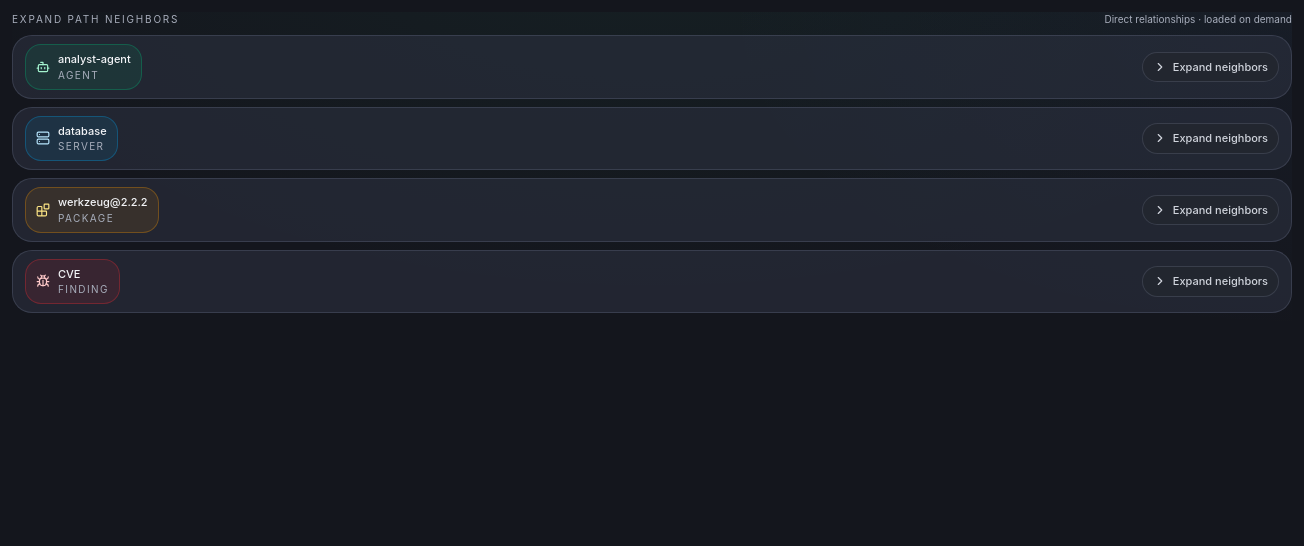
Scenario: ignores a slower response for the previous relationship direction
Click the button with aria-label "Expand neighbors of database": (1210, 138) x1=1142 y1=123 x2=1279 y2=154
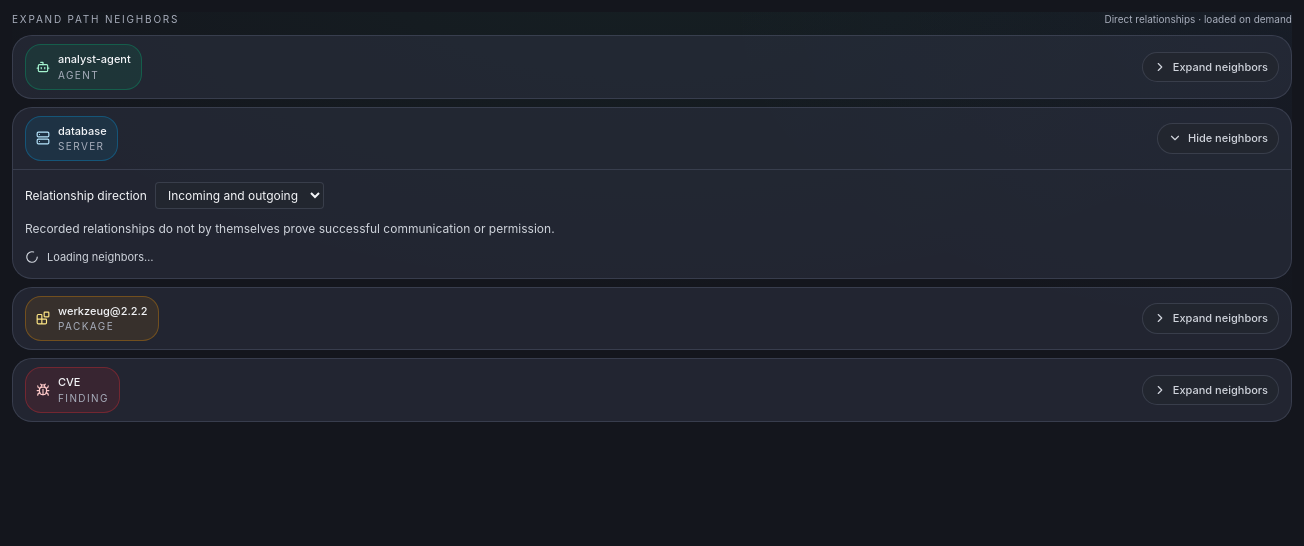
Select "Incoming" in the dropdown named "Relationship direction for database": (239, 196) x1=155 y1=182 x2=324 y2=209
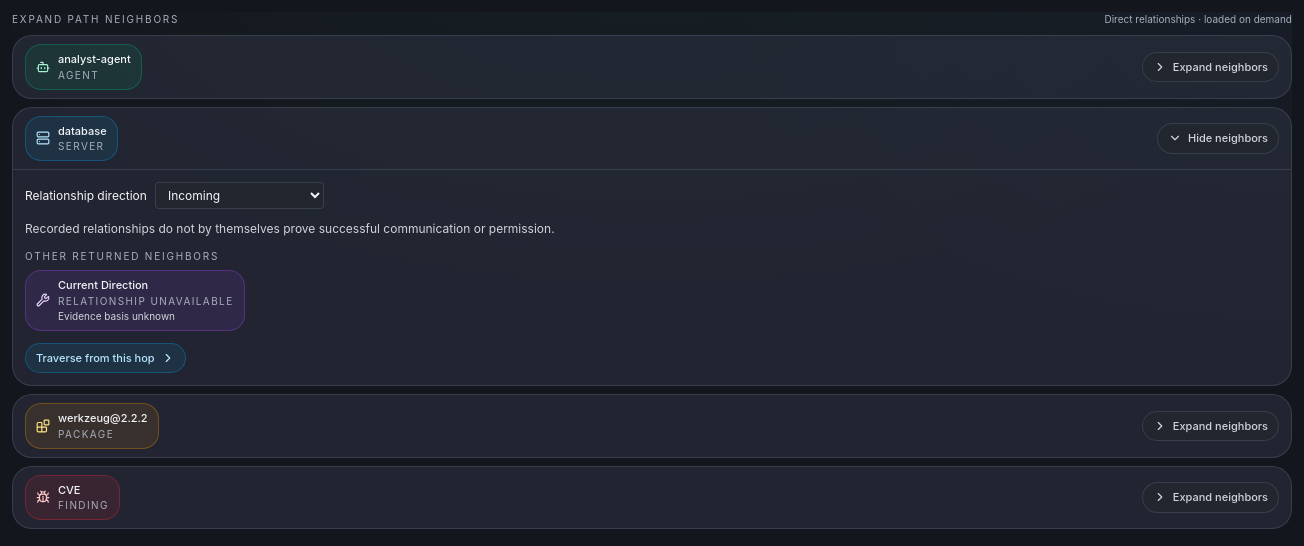
Expected: the text "Current Direction" is shown, x1=58 y1=278 x2=148 y2=292
